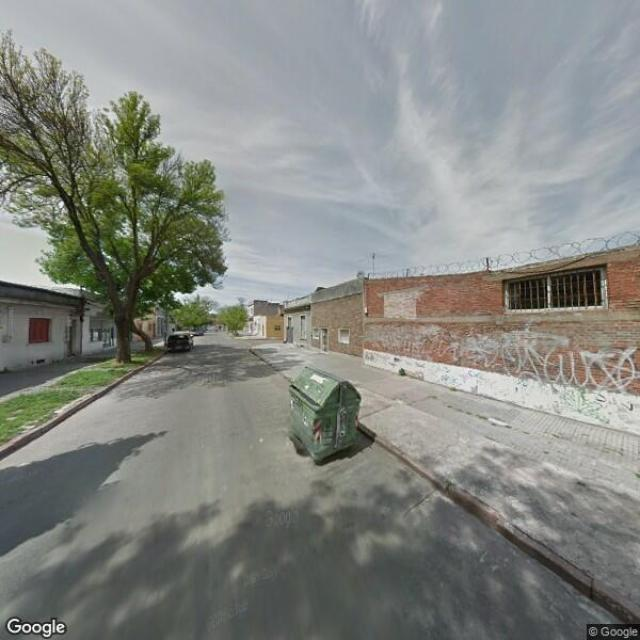garbage container: (285, 359, 376, 471)
